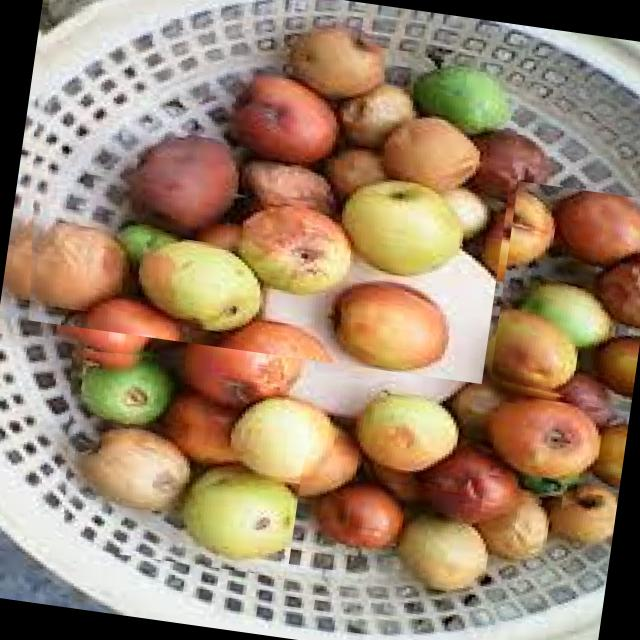Organic: (0, 0, 525, 384), (286, 370, 630, 622), (44, 337, 315, 578), (487, 181, 640, 413)
